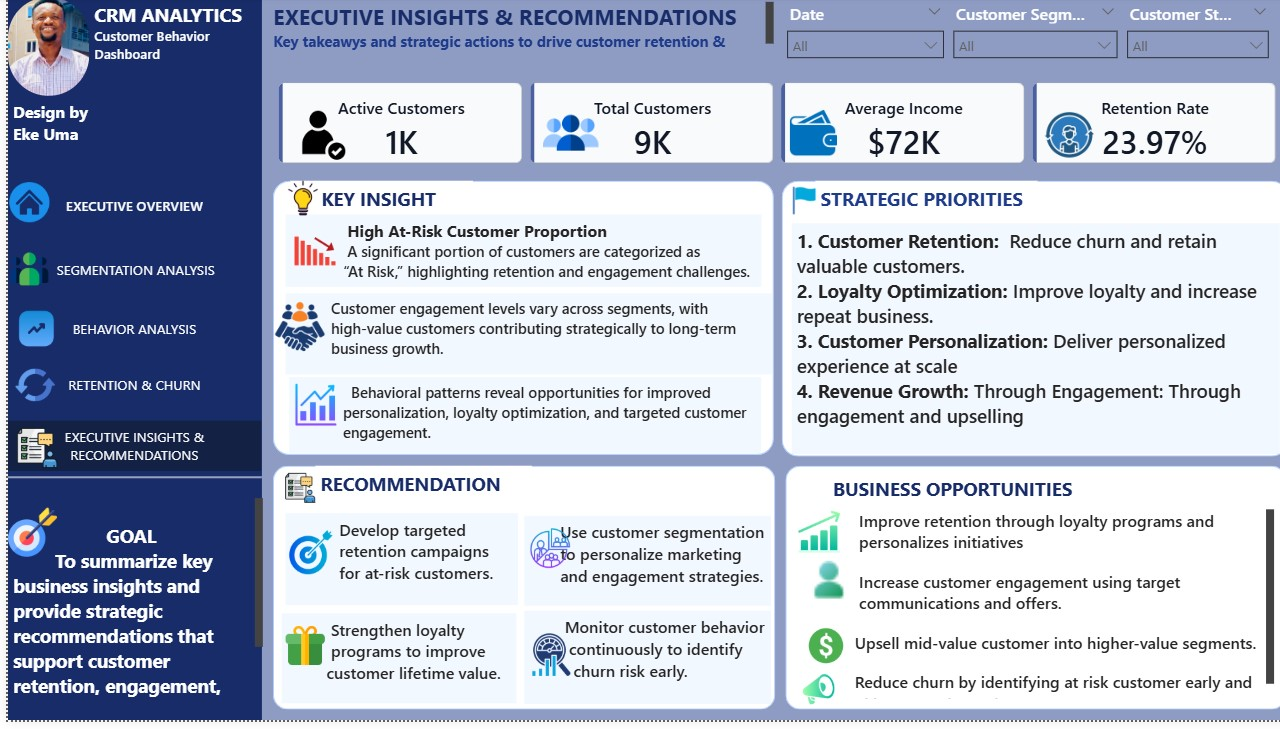

The dashboard page shown, as its layout file describes it:
{"tool":"powerbi","page":{"name":"EXECUTIVE INSIGHTS & RECOMMENDATIONS","canvas":[1280,720],"ordinal":4},"visuals":[{"type":"shape","box":[769.9,183.4,504.1,274.4],"z":0},{"type":"shape","box":[264.3,183.4,498.3,273],"z":1000},{"type":"cardVisual","fields":{"Data":["Customer Intelligence & Segmentation Analytics - Customer Intelligence & Segment.Active Customers","Customer Intelligence & Segmentation Analytics - Customer Intelligence & Segment.Total Customers","Customer Intelligence & Segmentation Analytics - Customer Intelligence & Segment.Average Income","Customer Intelligence & Segmentation Analytics - Customer Intelligence & Segment.Retention Rate"]},"box":[252.8,68.7,1027,114.1],"z":2000},{"type":"shape","box":[0,0,252.5,719.9],"z":3000},{"type":"textbox","box":[258.5,0,508.4,63.6],"z":4000},{"type":"slicer","fields":{"Values":["Customer Intelligence & Segmentation Analytics - Customer Intelligence & Segment.Last Purchase Date"]},"box":[764.7,0,176,63.5],"z":5000},{"type":"slicer","fields":{"Values":["Customer Intelligence & Segmentation Analytics - Customer Intelligence & Segment.Customer Segment"]},"box":[930.6,0,183.2,63.5],"z":6000},{"type":"slicer","fields":{"Values":["Customer Intelligence & Segmentation Analytics - Customer Intelligence & Segment.Customer Status"]},"box":[1103.7,0,161.6,69.3],"z":7000},{"type":"textbox","box":[0,98.1,114,53.4],"z":8000},{"type":"image","box":[0,0,80.8,98.1],"z":9000},{"type":"textbox","box":[80.8,0,177.5,80.8],"z":10000},{"type":"textbox","box":[0,493.4,258.3,209.2],"z":11000},{"type":"shape","box":[264.3,466.5,499.8,242.7],"z":12000},{"type":"image","box":[0,505,49.1,54.8],"z":13000},{"type":"shape","box":[774.2,466.5,498.3,242.7],"z":14000},{"type":"image","box":[281.7,112.7,66.4,49.1],"z":15000},{"type":"image","box":[274.4,465.1,31.8,46.2],"z":16000},{"type":"image","box":[533,88.1,54.9,93.9],"z":17000},{"type":"image","box":[767,108.3,67.9,53.4],"z":18000},{"type":"textbox","box":[281.7,183.4,182,36.1],"z":19000},{"type":"textbox","box":[280.2,378.4,469.4,78],"z":20000},{"type":"textbox","box":[275.9,294.7,483.9,80.9],"z":21000},{"type":"textbox","box":[275.9,216.7,473.8,72.2],"z":22000},{"type":"image","box":[281.7,225.3,49.1,54.9],"z":23000},{"type":"image","box":[264.3,297.5,53.4,62.1],"z":24000},{"type":"image","box":[284.5,364,43.3,82.3],"z":25000},{"type":"textbox","box":[306.2,466.5,215.2,36.1],"z":26000},{"type":"textbox","box":[273,613.9,234,89.6],"z":27000},{"type":"textbox","box":[275.9,514.2,231.1,91],"z":28000},{"type":"textbox","box":[514.2,515.6,245.5,89.6],"z":29000},{"type":"textbox","box":[514.2,611,245.5,92.4],"z":30000},{"type":"textbox","box":[803.1,183.4,221,37.6],"z":31000},{"type":"textbox","box":[780,225.3,485.3,229.7],"z":32000},{"type":"image","box":[271.5,183.4,44.8,34.7],"z":33000},{"type":"image","box":[767,186.3,49.1,31.8],"z":34000},{"type":"image","box":[280.2,511.3,43.3,82.3],"z":35000},{"type":"image","box":[274.4,593.6,41.9,104],"z":36000},{"type":"image","box":[518.5,498.3,41.9,99.7],"z":37000},{"type":"image","box":[520,613.9,41.9,82.3],"z":38000},{"type":"textbox","box":[816.1,470.9,264.3,34.7],"z":39000},{"type":"textbox","box":[780,505.5,485.3,197.9],"z":40000},{"type":"image","box":[780,511.3,54.9,41.9],"z":41000},{"type":"image","box":[794.4,560.4,43.3,37.6],"z":42000},{"type":"image","box":[792.4,622,43.5,47.3],"z":43000},{"type":"image","box":[788.7,658.1,36.1,61],"z":44000},{"type":"image","box":[1022.6,108.3,69.3,56.3],"z":45000},{"type":"pageNavigator","box":[0,421.3,252.5,50.5],"z":46000},{"type":"shape","box":[0,471.8,252.5,13],"z":47000},{"type":"pageNavigator","box":[0,183.2,252.5,50.5],"z":48000},{"type":"pageNavigator","box":[1.4,246.7,252.5,50.5],"z":49000},{"type":"pageNavigator","box":[0,304.4,252.5,50.5],"z":50000},{"type":"pageNavigator","box":[0,360.7,252.5,50.5],"z":51000},{"type":"image","box":[1.4,176,40.4,57.7],"z":52000},{"type":"image","box":[2.9,244.1,37.6,53.4],"z":53000},{"type":"image","box":[7.2,304.4,41.8,50.5],"z":54000},{"type":"image","box":[7.2,365,39,43.3],"z":55000},{"type":"image","box":[7.2,417,43.3,63.5],"z":56000}]}

Visuals, with their boxes in screenshot pixels (x1, y1, x2, y2), scaled from the page's 1280x720 canvas onto the 1280x729 screenshot:
shape: 770:186:1274:464
shape: 264:186:763:462
cardVisual - Customer Intelligence & Segmentation Analytics - Customer Intelligence & Segment.Active Customers x Customer Intelligence & Segmentation Analytics - Customer Intelligence & Segment.Total Customers: 253:70:1279:185
shape: 0:0:252:728
textbox: 258:0:767:64
slicer - Customer Intelligence & Segmentation Analytics - Customer Intelligence & Segment.Last Purchase Date: 765:0:941:64
slicer - Customer Intelligence & Segmentation Analytics - Customer Intelligence & Segment.Customer Segment: 931:0:1114:64
slicer - Customer Intelligence & Segmentation Analytics - Customer Intelligence & Segment.Customer Status: 1104:0:1265:70
textbox: 0:99:114:153
image: 0:0:81:99
textbox: 81:0:258:82
textbox: 0:500:258:711
shape: 264:472:764:718
image: 0:511:49:567
shape: 774:472:1272:718
image: 282:114:348:164
image: 274:471:306:518
image: 533:89:588:184
image: 767:110:835:164
textbox: 282:186:464:222
textbox: 280:383:750:462
textbox: 276:298:760:380
textbox: 276:219:750:293
image: 282:228:331:284
image: 264:301:318:364
image: 284:369:328:452
textbox: 306:472:521:509
textbox: 273:622:507:712
textbox: 276:521:507:613
textbox: 514:522:760:613
textbox: 514:619:760:712
textbox: 803:186:1024:224
textbox: 780:228:1265:461
image: 272:186:316:221
image: 767:189:816:221
image: 280:518:324:601
image: 274:601:316:706
image: 518:505:560:605
image: 520:622:562:705
textbox: 816:477:1080:512
textbox: 780:512:1265:712
image: 780:518:835:560
image: 794:567:838:605
image: 792:630:836:678
image: 789:666:825:728
image: 1023:110:1092:167
pageNavigator: 0:427:252:478
shape: 0:478:252:491
pageNavigator: 0:185:252:237
pageNavigator: 1:250:254:301
pageNavigator: 0:308:252:359
pageNavigator: 0:365:252:416
image: 1:178:42:237
image: 3:247:40:301
image: 7:308:49:359
image: 7:370:46:413
image: 7:422:50:487
